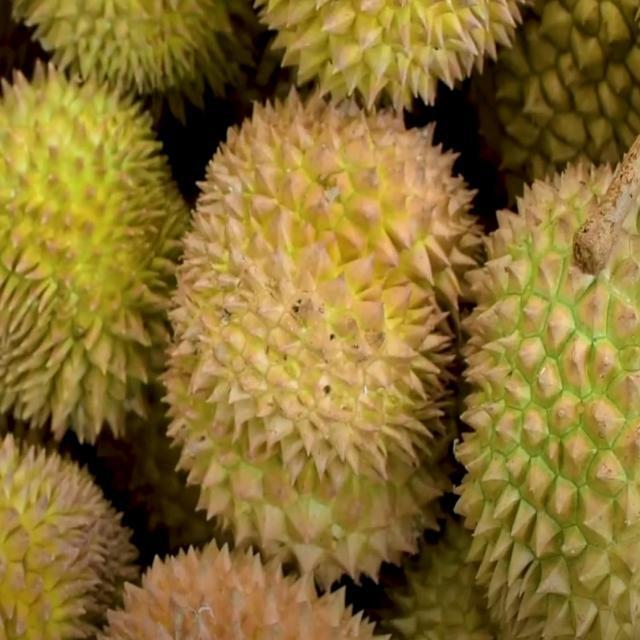mature: (157, 81, 489, 593)
